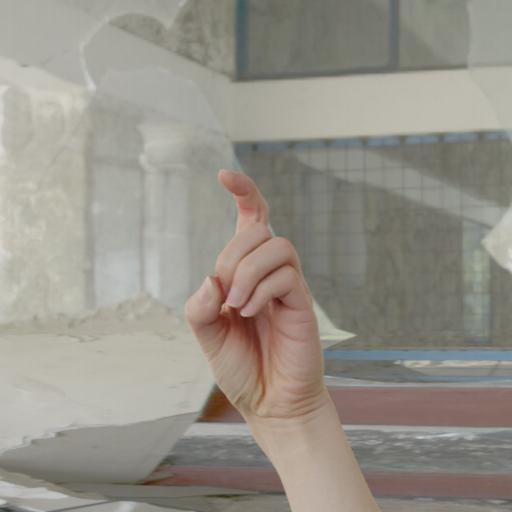X: (168, 157, 362, 512)
